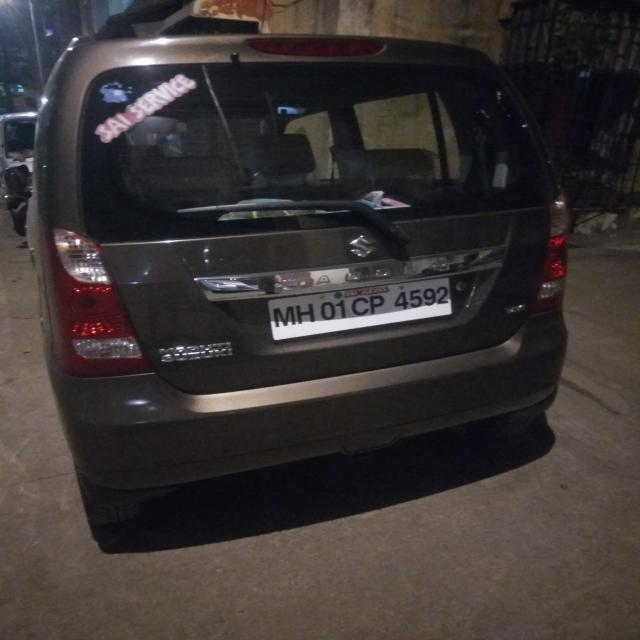Number-Plate: (274, 282, 455, 336)
